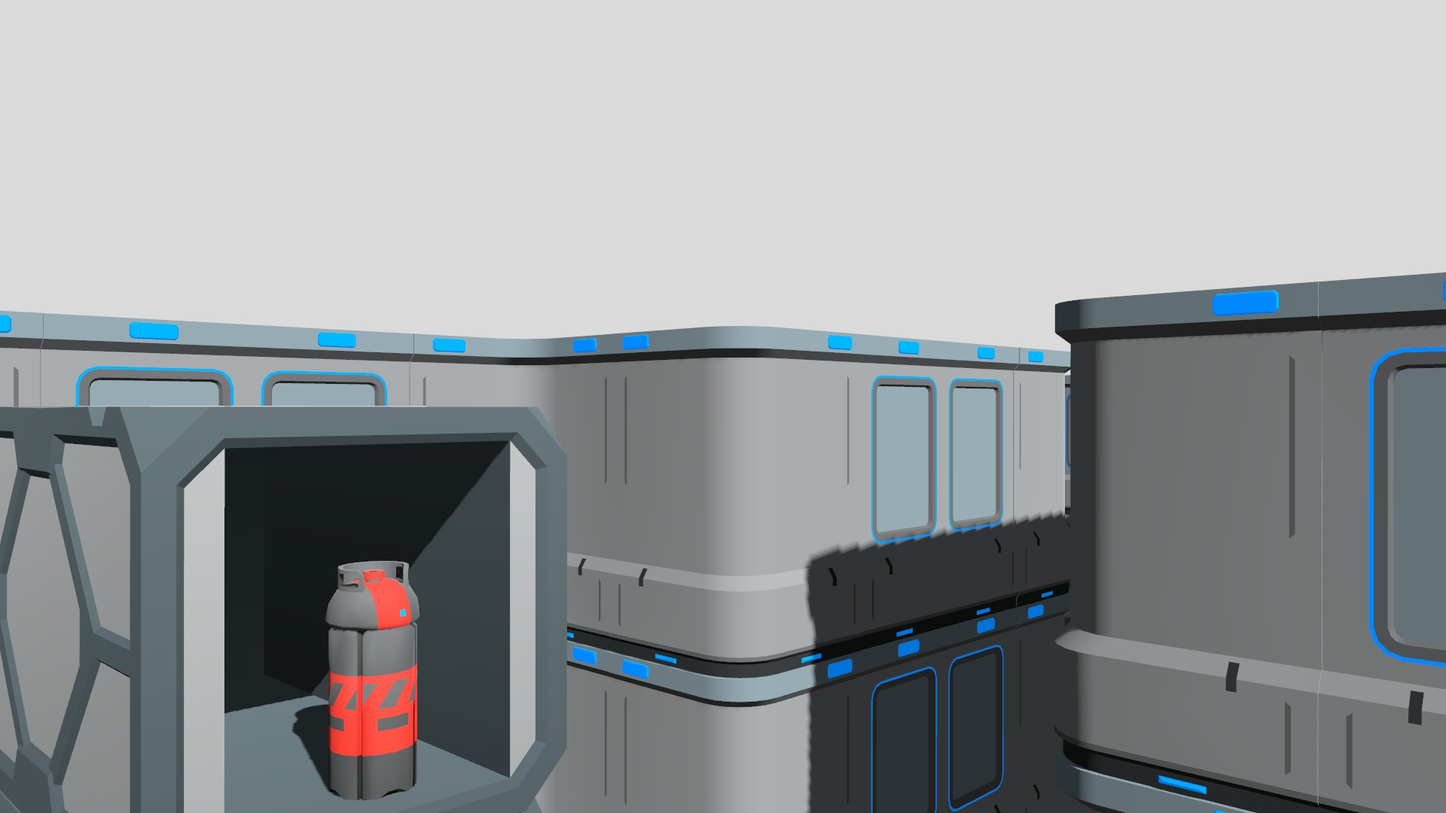red_barrel: (319, 556, 424, 804)
